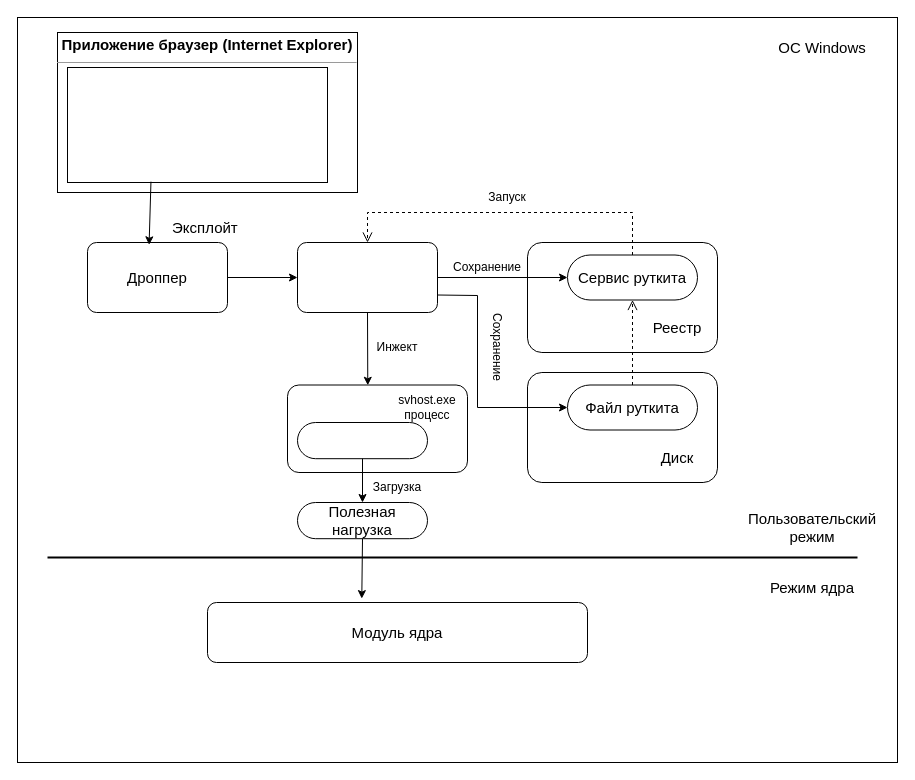
Image size: 915x780. Some labels were removed from this diagram. The shapes that lost their labels are listed below. From the top down, each one's centre as x and y in pixels, then its label:
At pixel 197 124: "Изолированная среда Вектора атаки: Email Вредоносные сайты и др.".
At pixel 367 277: "Руткит".
At pixel 362 440: "Загрузчик".
